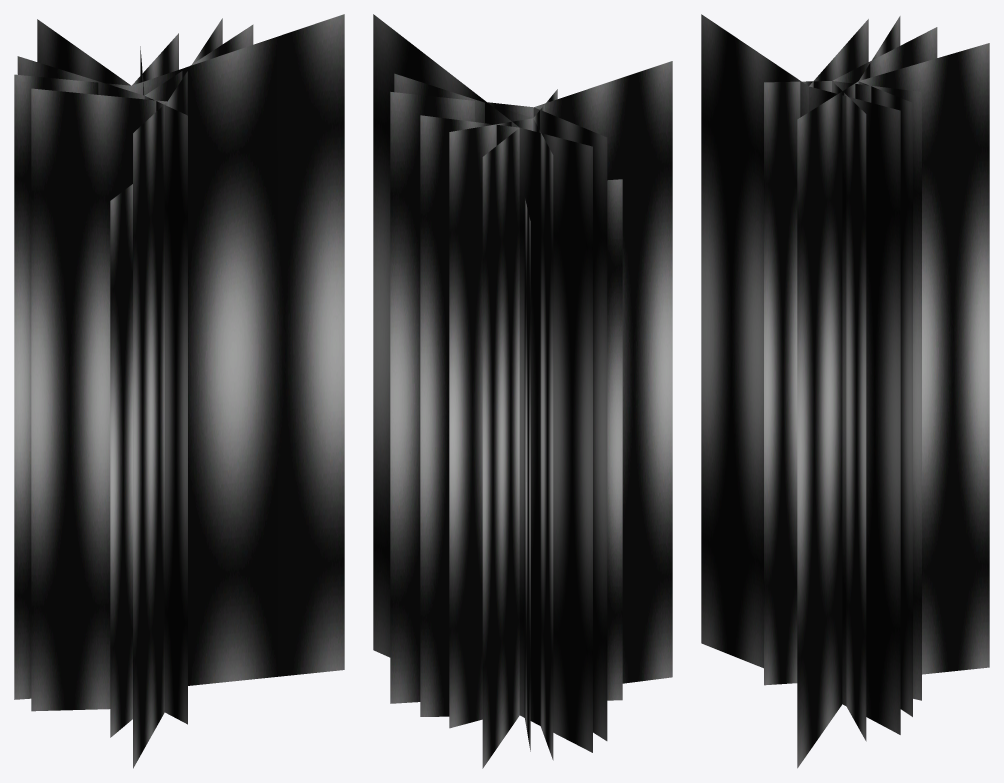
Rendered from vfx_kurp_0024.dae.
3 views of the same model, side by side, from view 1: azimuth 30°, elevation 25°; view 2: azimuth 150°, elevation 25°; view 3: azimuth 270°, elevation 25° (orthographic). The views are drawn at different scales.
Parts seen in each view (by area): view 1: vfx_kurp_0024; view 2: vfx_kurp_0024; view 3: vfx_kurp_0024.
Part boxes in pixels (x1,y1,x2,y2): vfx_kurp_0024: (14, 14, 344, 768); vfx_kurp_0024: (373, 14, 672, 768); vfx_kurp_0024: (701, 14, 989, 768).
Bounding box in the file's own units: 2.6 × 2.36 × 5.86.
Materials: 1 (1 with a texture image).
